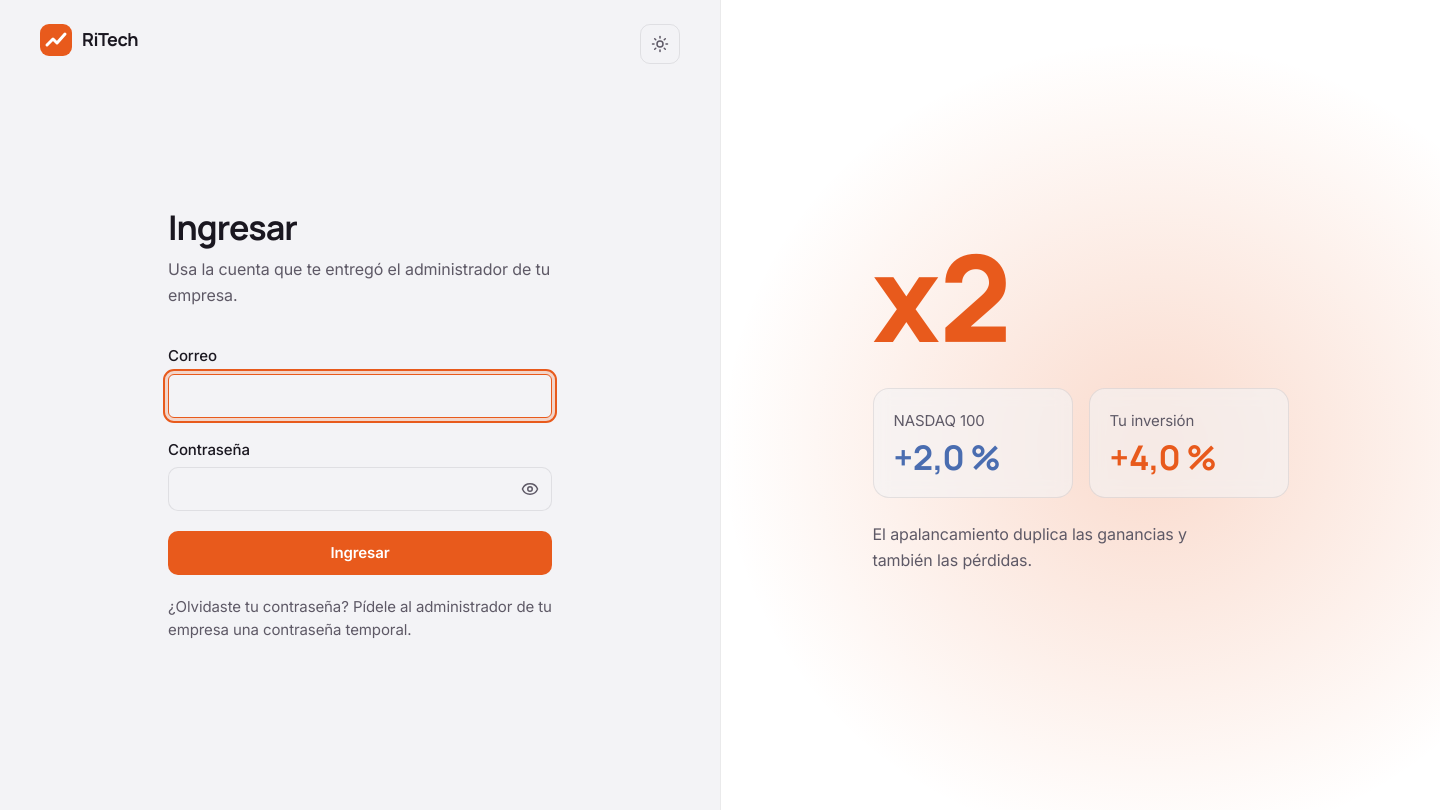
Scenario: Login › muestra el error de credenciales en español
Type "ana@empresa.com" into the field labelled "Correo" at (360, 396), box x1=168 y1=374 x2=552 y2=418
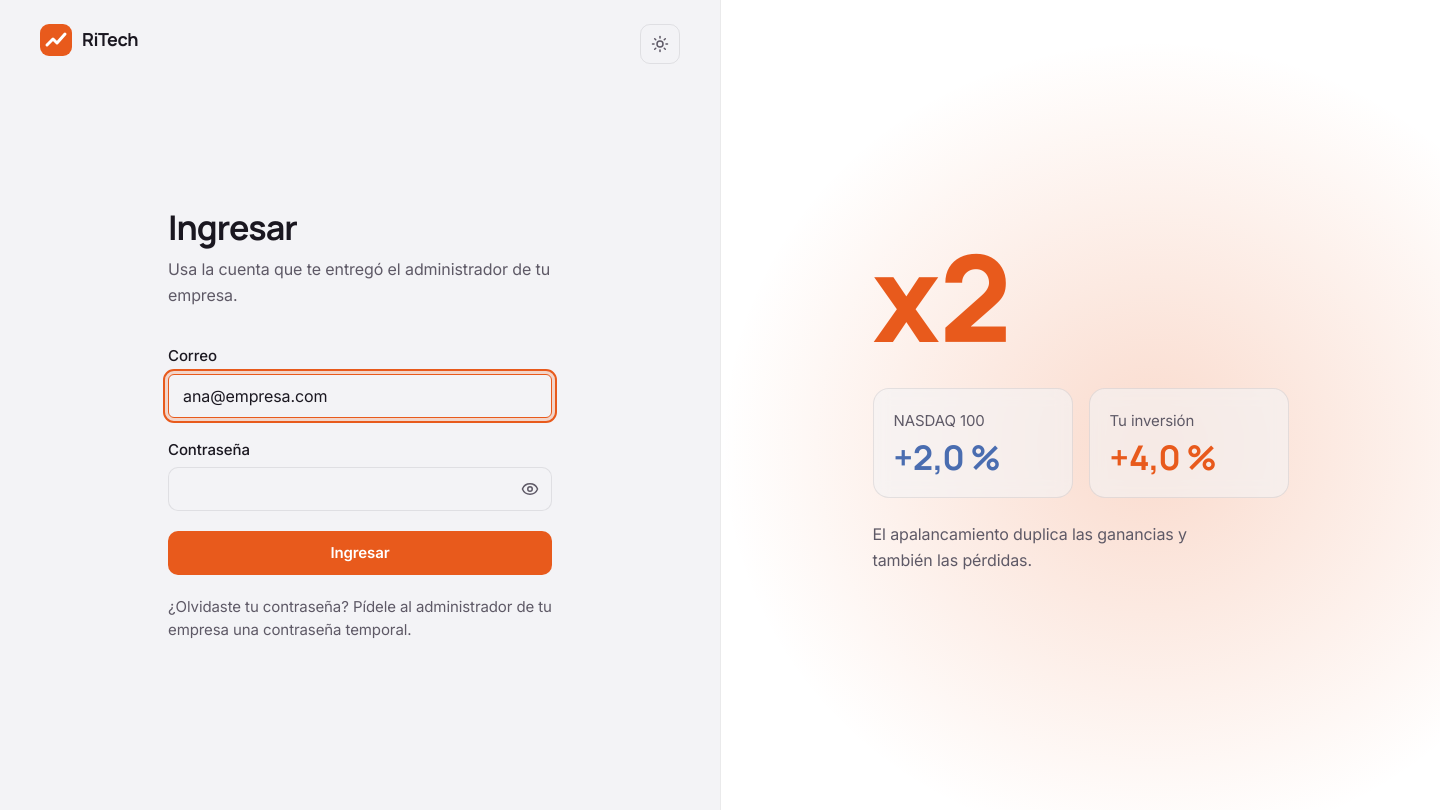
Type "mala" into the password field labelled "Contraseña" at (360, 489), box x1=168 y1=467 x2=552 y2=511
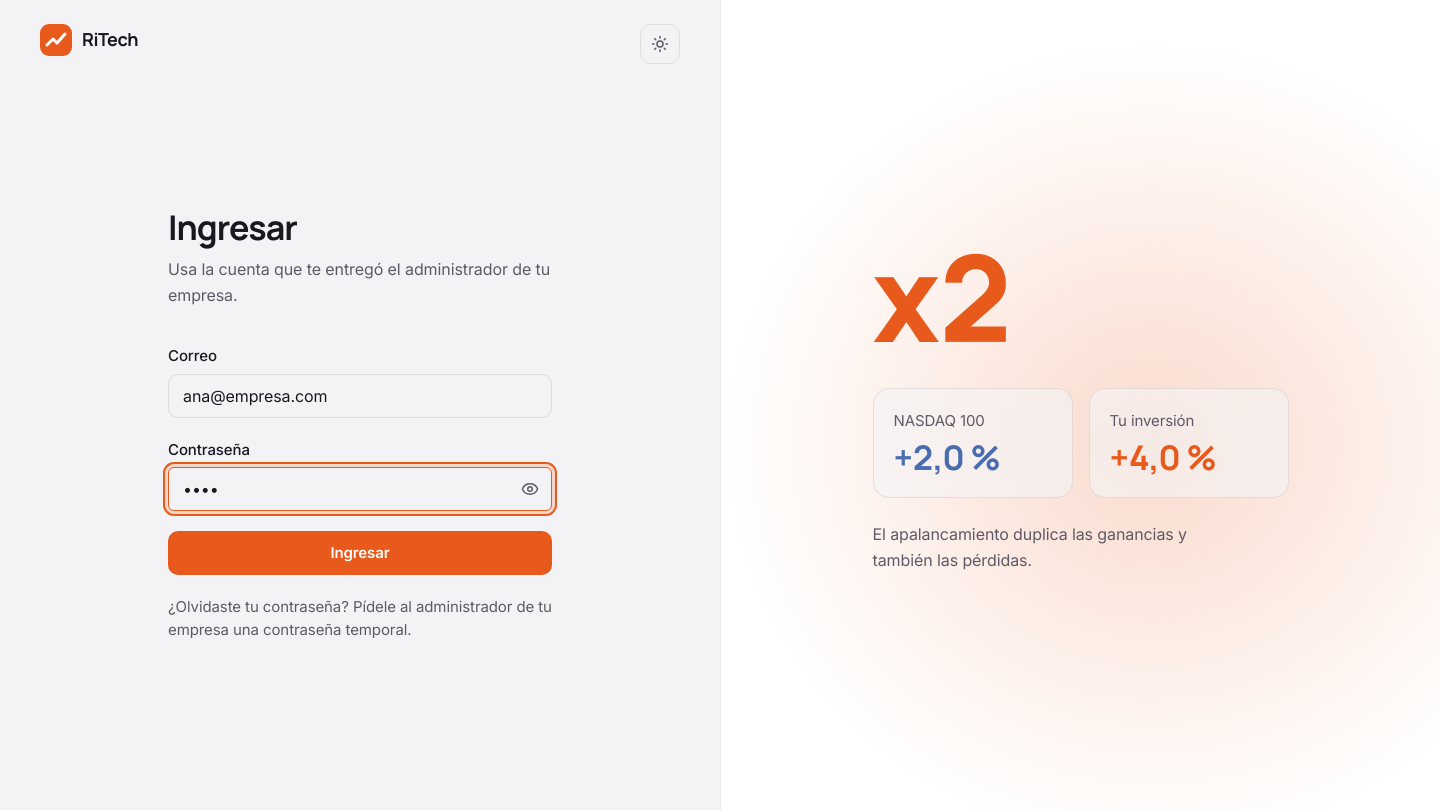
Click the button "Ingresar" at (360, 553), box x1=168 y1=531 x2=552 y2=575
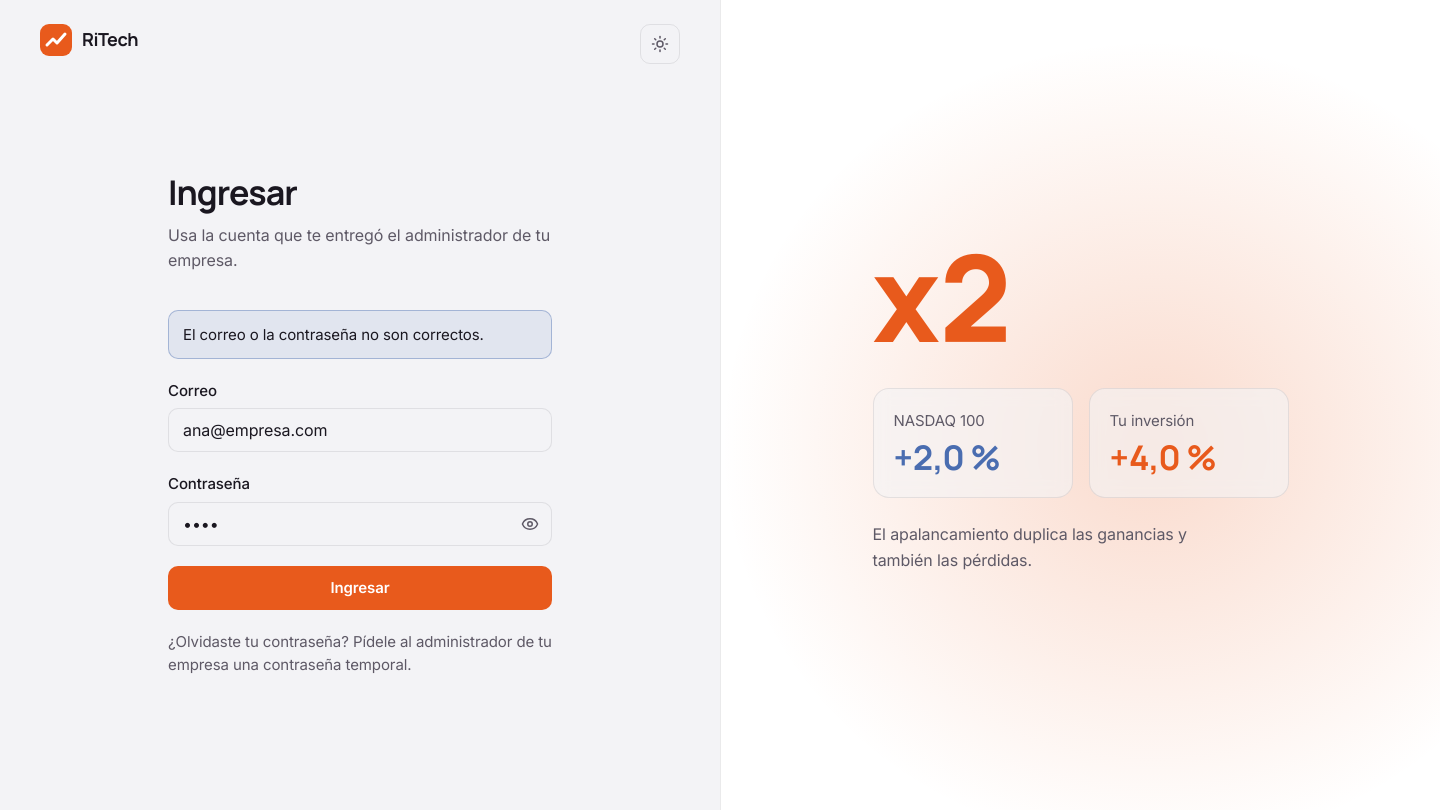
Result: the message shows "El correo o la contraseña no son correctos" at x1=183 y1=325 x2=484 y2=344
